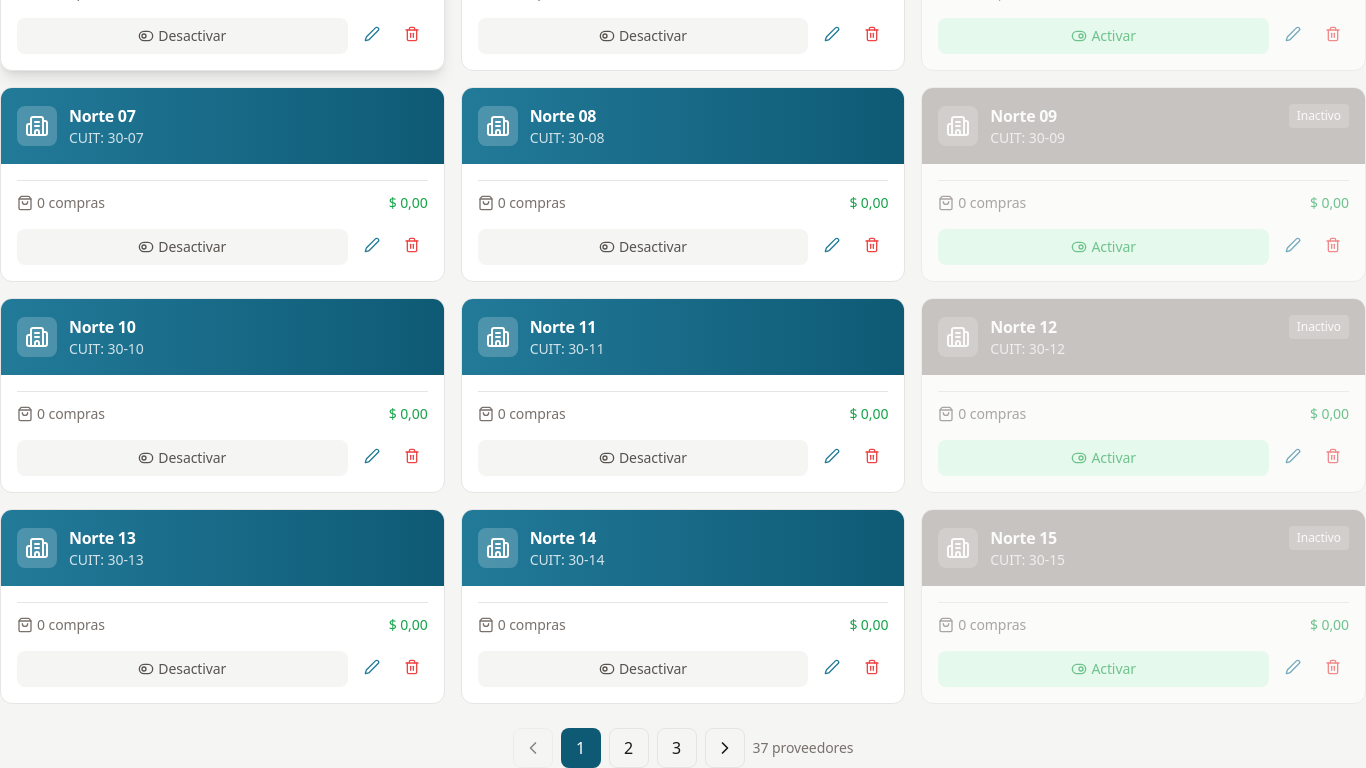
Scenario: VistaProveedores — los filtros vuelven a la pagina 1 › buscar desde la pagina 2 muestra los primeros resultados (30 coinciden: siguen siendo 2 paginas)
(page scrolled)
Click the button named "Página siguiente" at (724, 748), box [704,728,744,767]
(page scrolled)
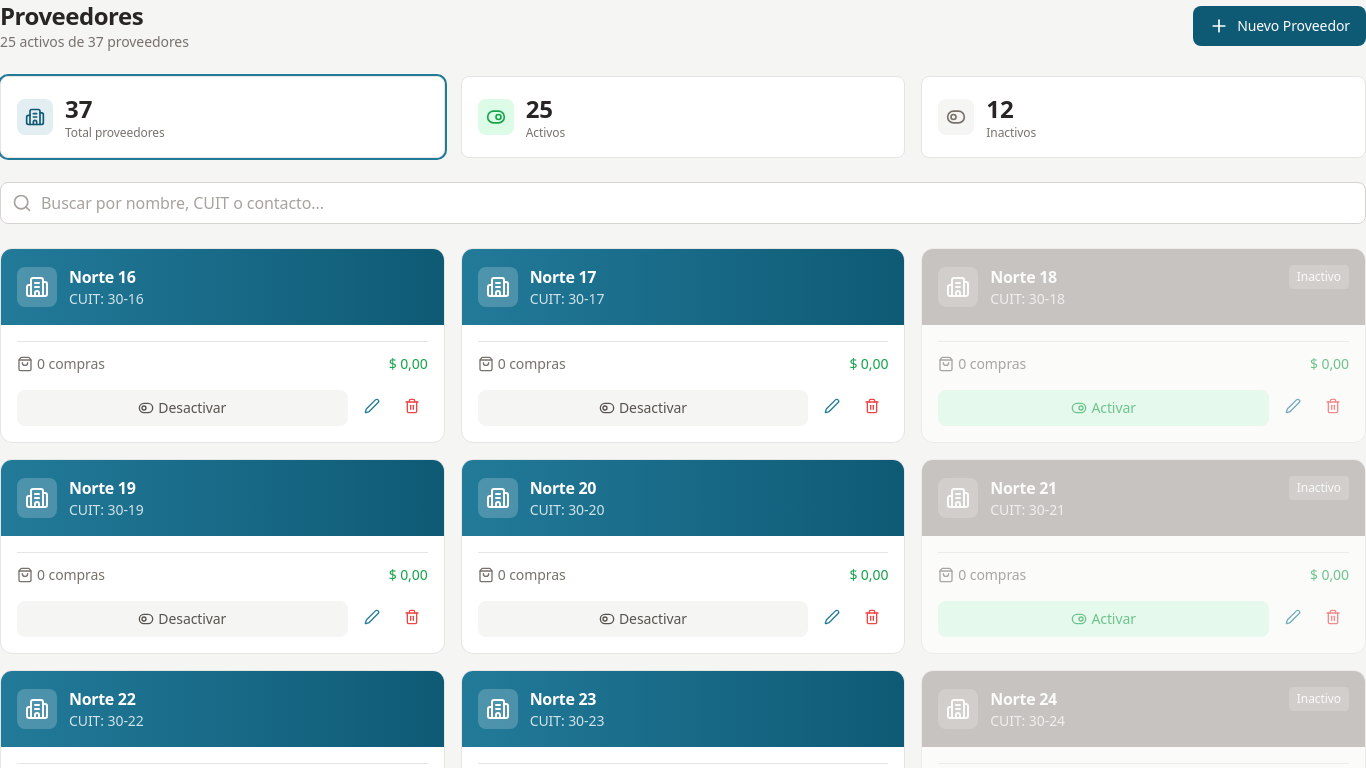
Now the heading "Norte 16" is shown, box [69,265,144,289]
Type "norte" into the field at (683, 203), box [0,182,1365,224]
(page scrolled)
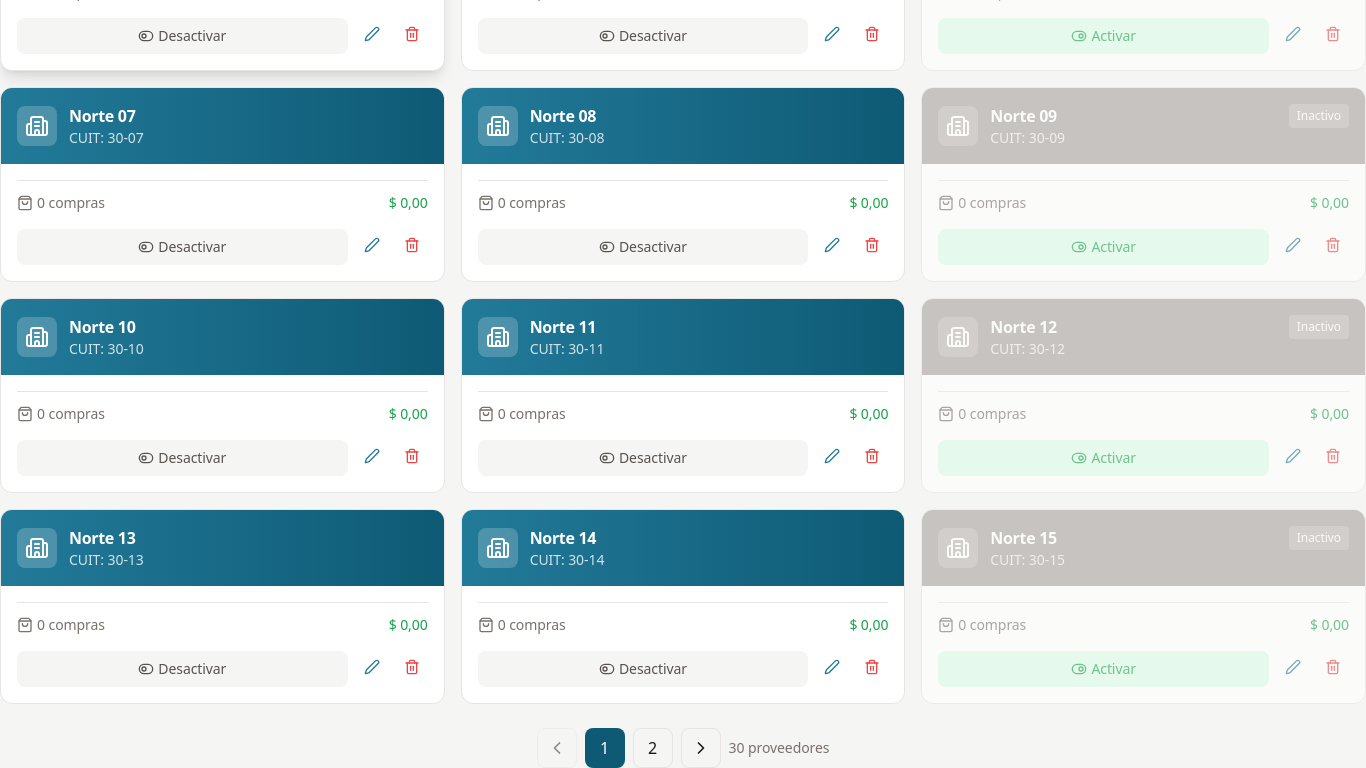
Now the button named "Página anterior" is disabled, box [536,728,576,767]
Now the text "30 proveedores" is shown, box [728,738,829,758]
